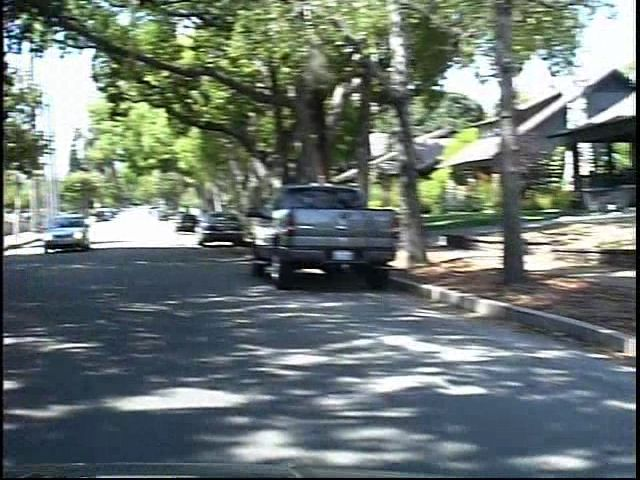car: (264, 198, 398, 284), (42, 214, 90, 256), (196, 206, 244, 248)
